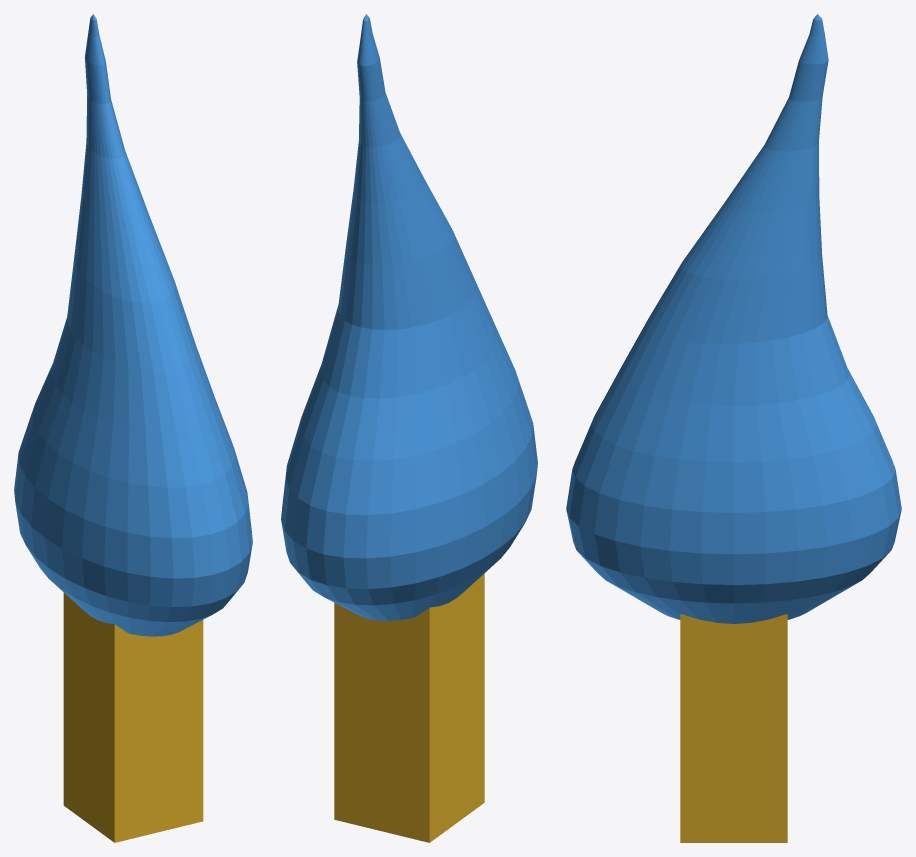
Rendered from KroplaWody.fbx.
3 views of the same model, side by side, from view 1: azimuth 30°, elevation 25°; view 2: azimuth 150°, elevation 25°; view 3: azimuth 270°, elevation 25° (orthographic). The views are drawn at different scales.
Visible parts, largest first — view 1: Sphere; view 2: Sphere; view 3: Sphere.
Part boxes in pixels (x1,y1,x2,y2): Sphere: (14,14,252,842); Sphere: (281,14,537,842); Sphere: (566,14,901,842).
Bounding box in the file's own units: 0.3975 × 1.65 × 0.6221.
